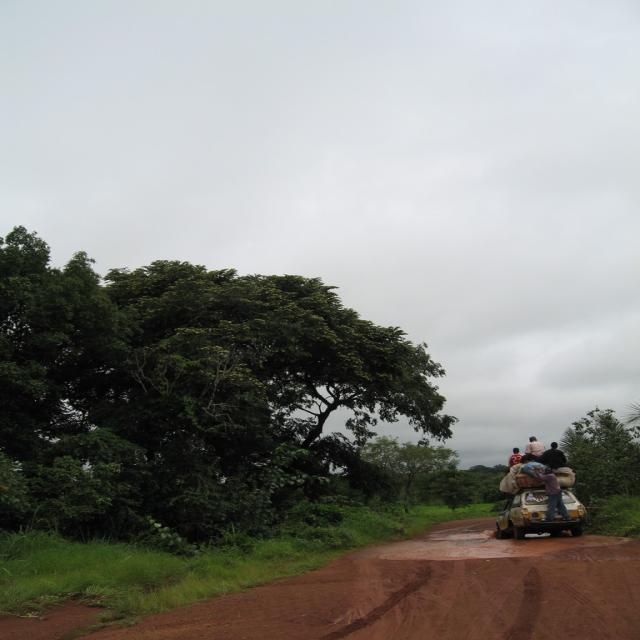car: (501, 464, 591, 537)
